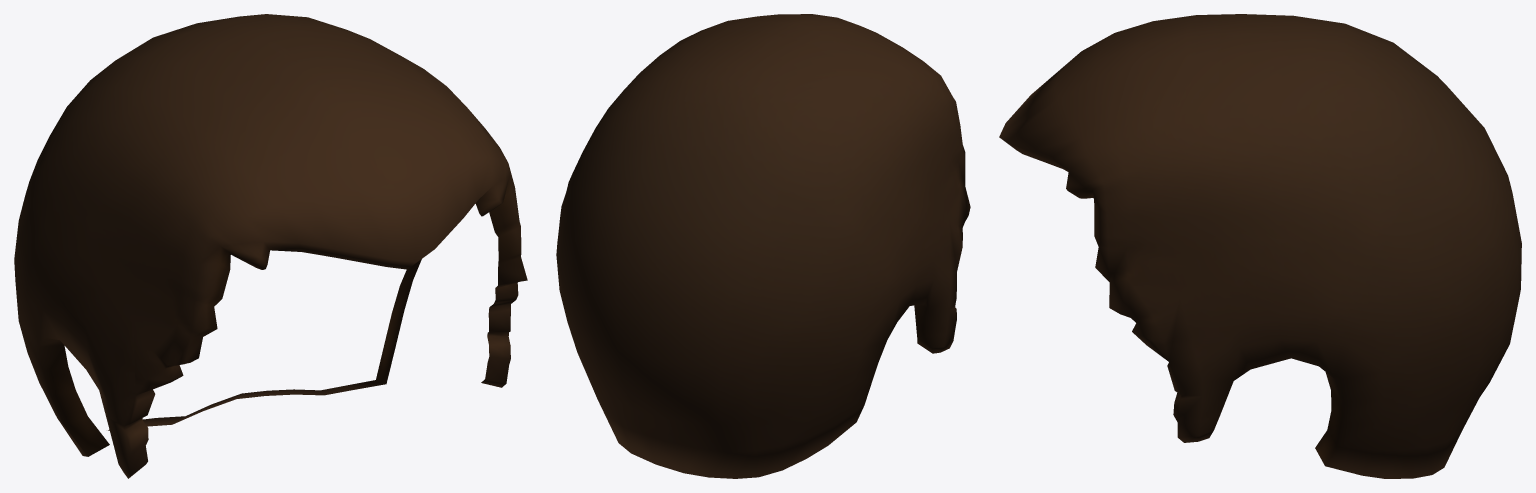
Rendered from buzzed_f.glb.
3 renders of one model, left to right at view 1: azimuth 30°, elevation 25°; view 2: azimuth 150°, elevation 25°; view 3: azimuth 270°, elevation 25°, orthographic. The views are drawn at different scales.
Parts seen in each view (by area): view 1: buzzed_f; view 2: buzzed_f; view 3: buzzed_f.
Boxes of the visible parts, left/top/right/bottom form: buzzed_f: left=14, top=14, right=527, bottom=478; buzzed_f: left=556, top=14, right=970, bottom=478; buzzed_f: left=999, top=14, right=1521, bottom=478.
Size of the model in its own units: 0.1587 by 0.1715 by 0.1969.
1 material, 1 textured.
